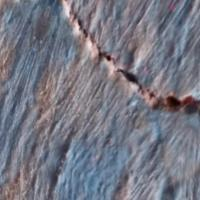crack: (67, 0, 199, 140)
